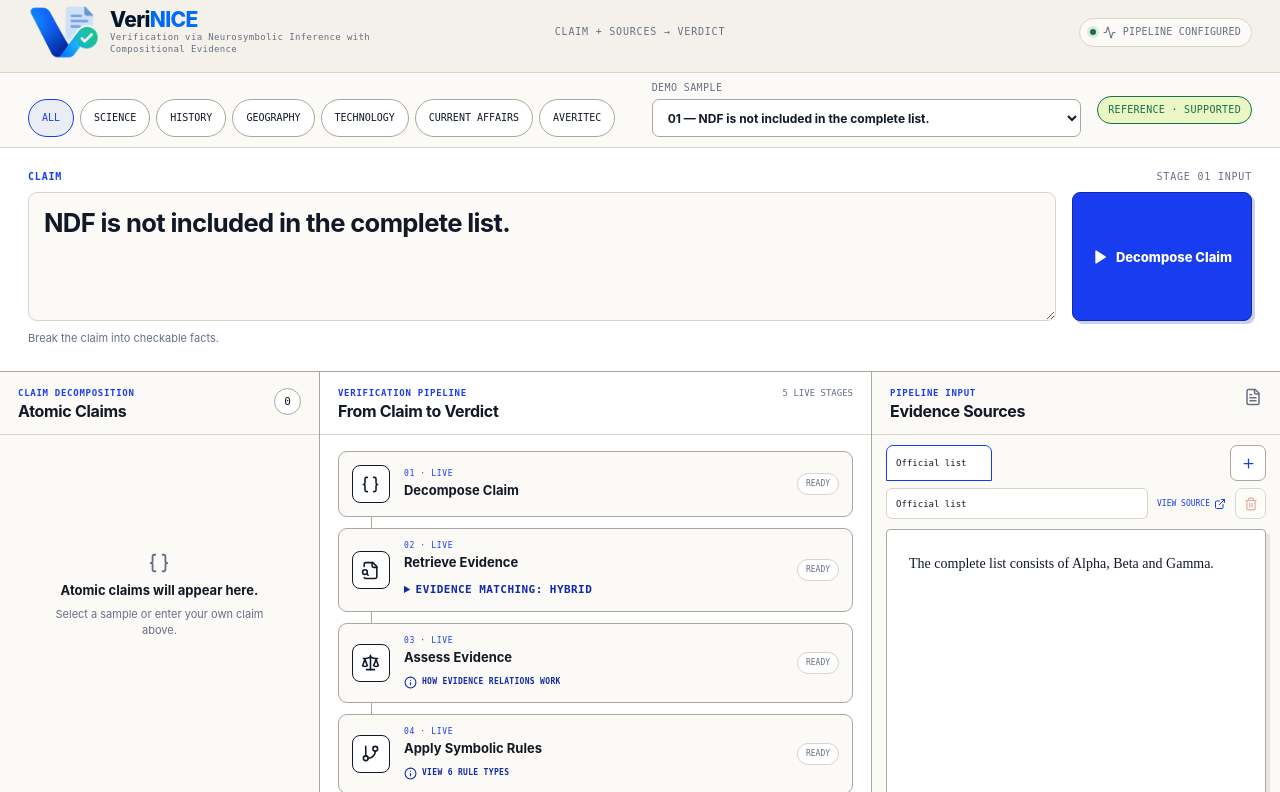
Test: live program-guided workflow › retains decomposition but clears evidence, assessment, and reasoning after a document edit
Click the button "Decompose Claim".
click(1162, 257)  # box [1072,192,1252,321]
(page scrolled)
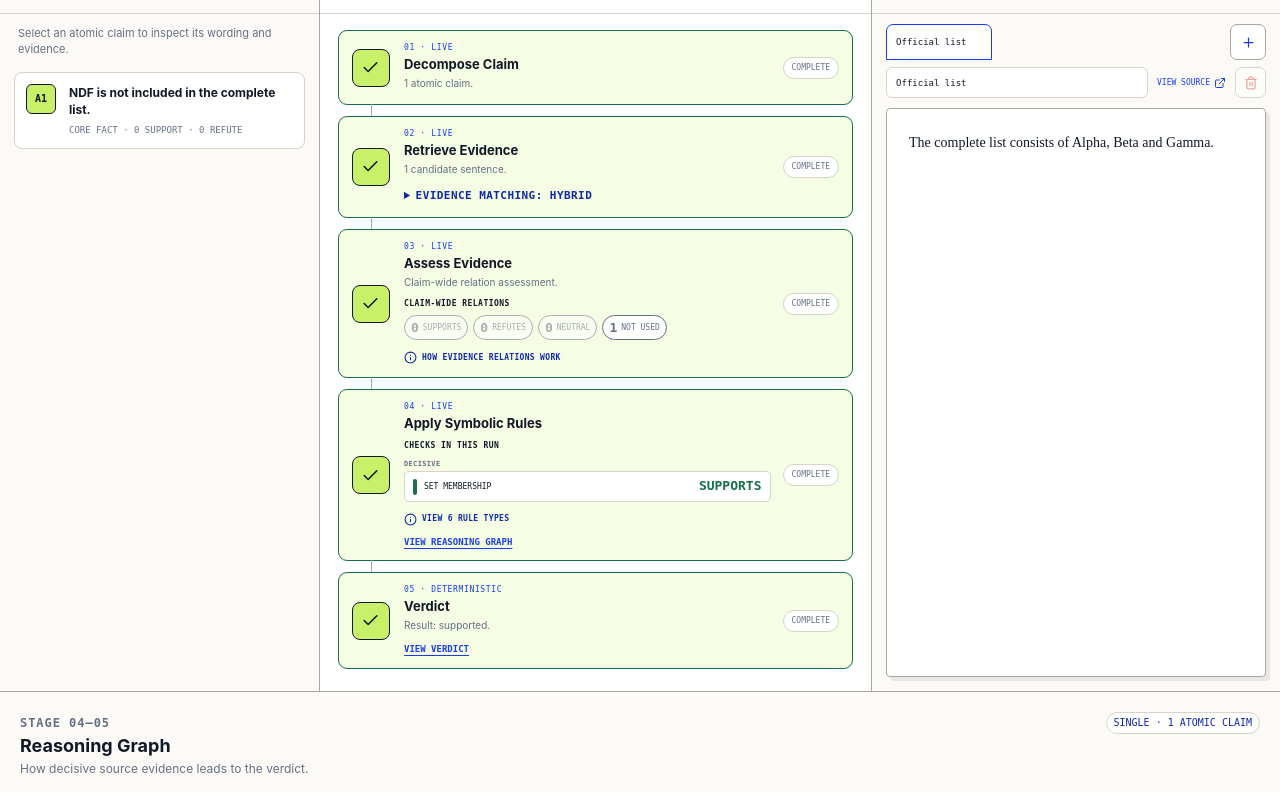
Replace the text in the text box named "evidence document" with "Edited source." at (1076, 392), box [887,109,1265,676]
(page scrolled)
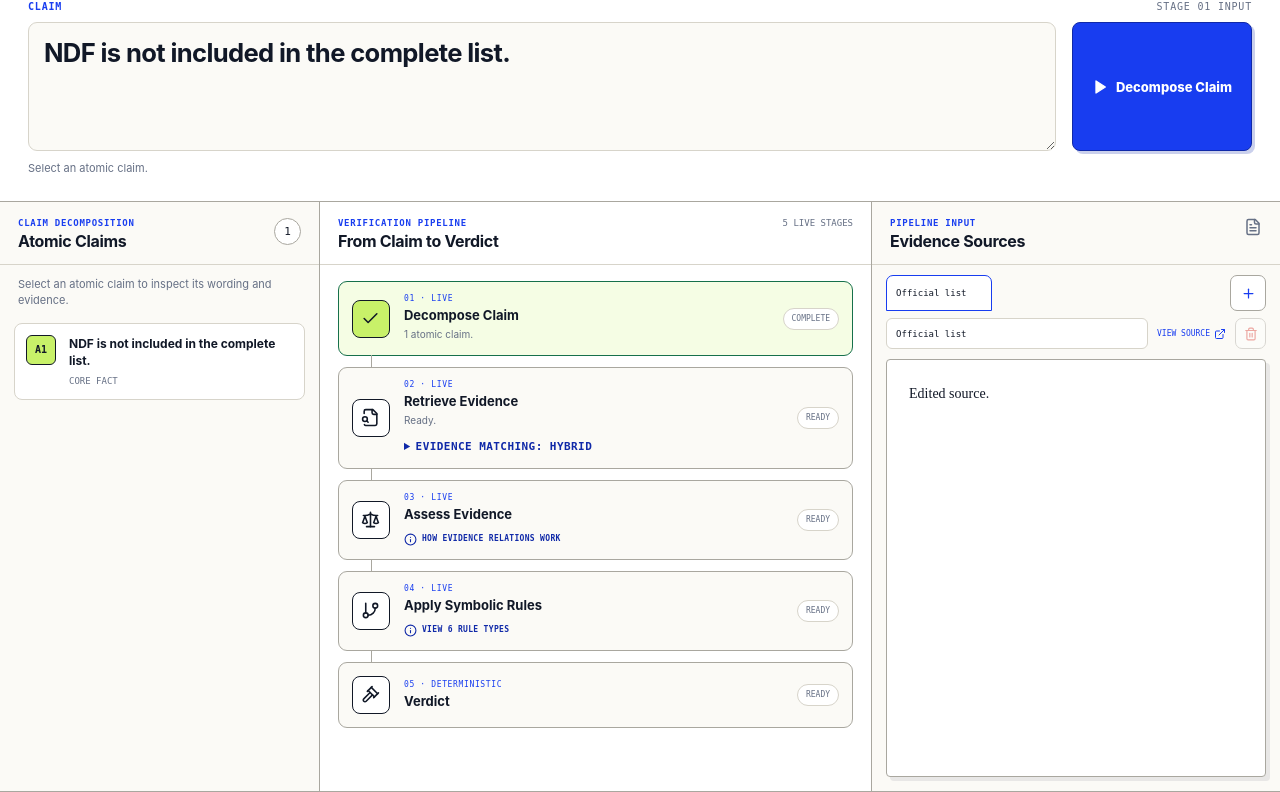
Expected: the text box "NDF is not included in the complete list." is shown, [28,22,1056,151]
Now the text "Ready." is shown, box [404,414,436,426]
